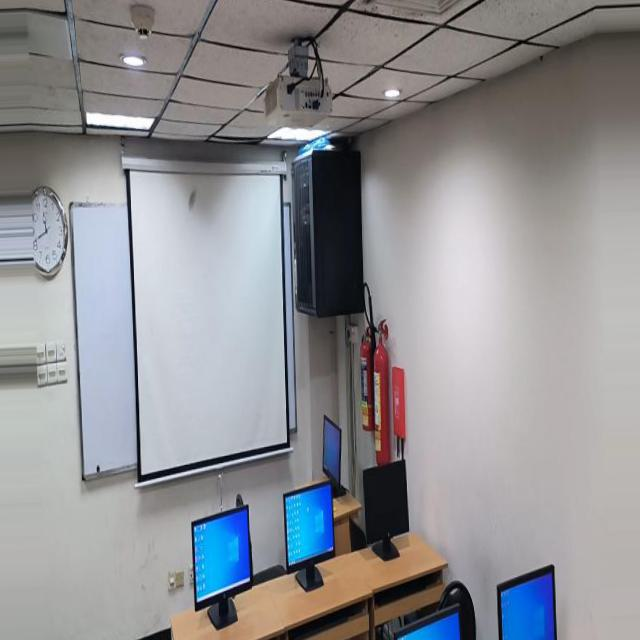Chair: (466, 539, 485, 640), (346, 602, 392, 640)
Fire Extinguisher: (378, 318, 397, 444), (362, 298, 379, 422)
Light: (586, 0, 640, 47), (62, 128, 144, 158), (266, 158, 334, 168), (102, 83, 138, 99), (399, 121, 418, 139)
Monitor: (510, 537, 578, 640), (167, 476, 234, 576), (272, 460, 328, 548), (396, 576, 466, 640), (363, 446, 412, 527), (260, 610, 341, 640), (316, 396, 341, 464)
Projector: (264, 99, 343, 160)
